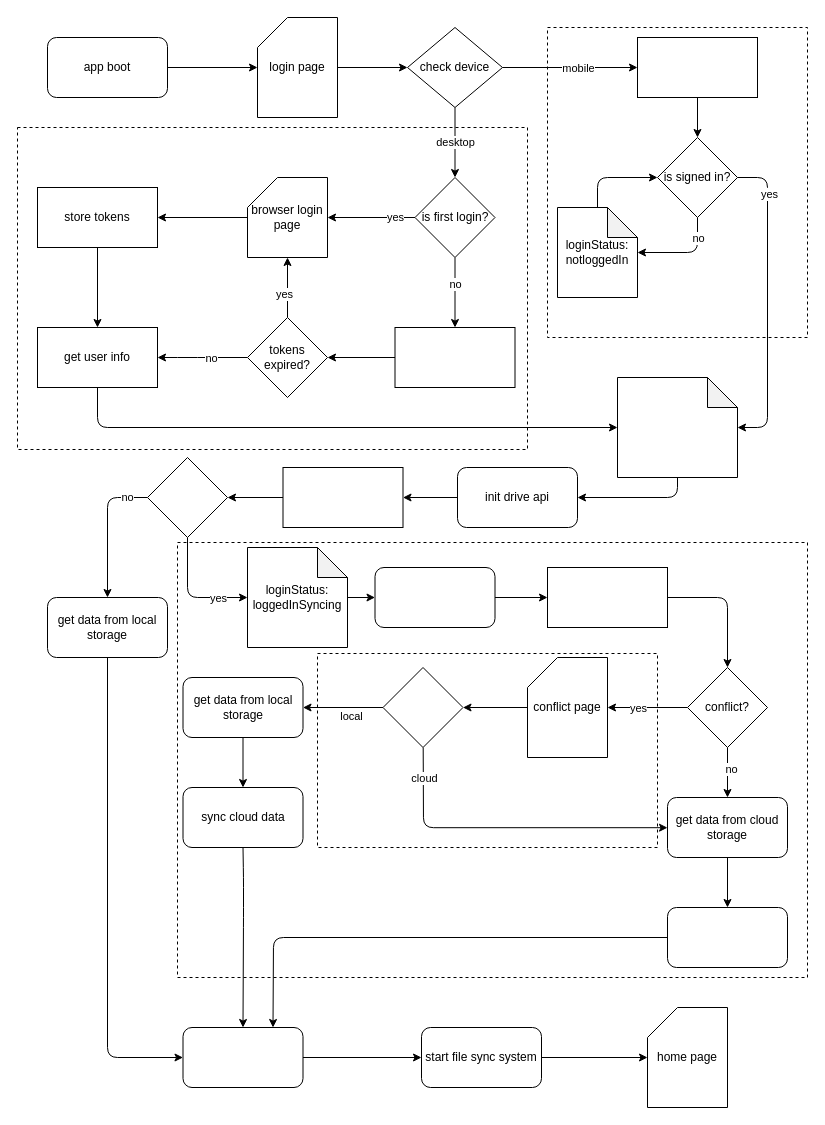
Image size: 825x1125. Some labels were removed from this diagram. Each missing label, with the box of its shape:
check for conflict: (374, 566, 495, 628)
compare local sync id with cloud sync id: (282, 466, 403, 528)
compare local sync time with cloud sync time: (546, 566, 668, 628)
get tokens: (394, 326, 515, 388)
is sync needed?: (146, 456, 228, 538)
keep which data?: (382, 666, 463, 748)
loginStatus: loggedInCheckSync: (616, 376, 738, 478)
sign in silently: (636, 36, 758, 98)
sync local data: (666, 906, 788, 968)
sync settings: (182, 1026, 303, 1088)
